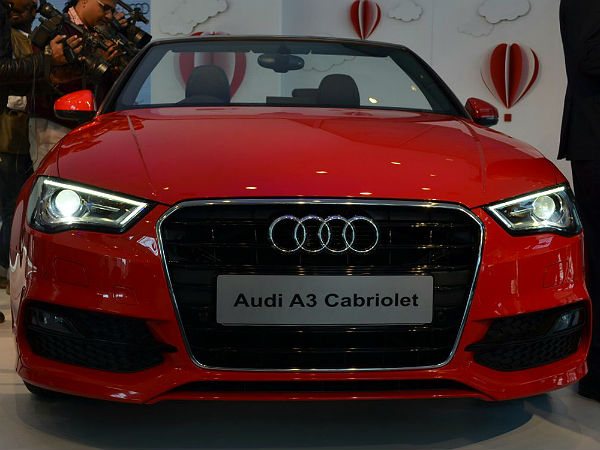audi: (261, 210, 381, 258)
